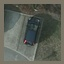car: (23, 19, 40, 45)
